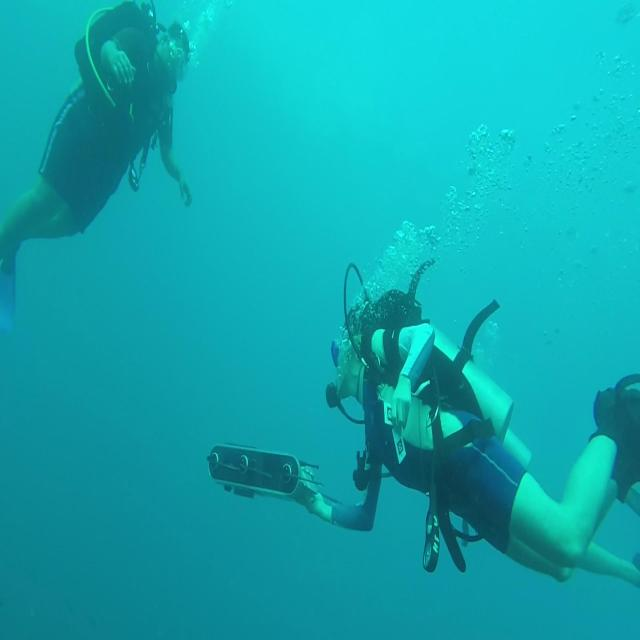human: (207, 258, 638, 589), (1, 0, 193, 329)
